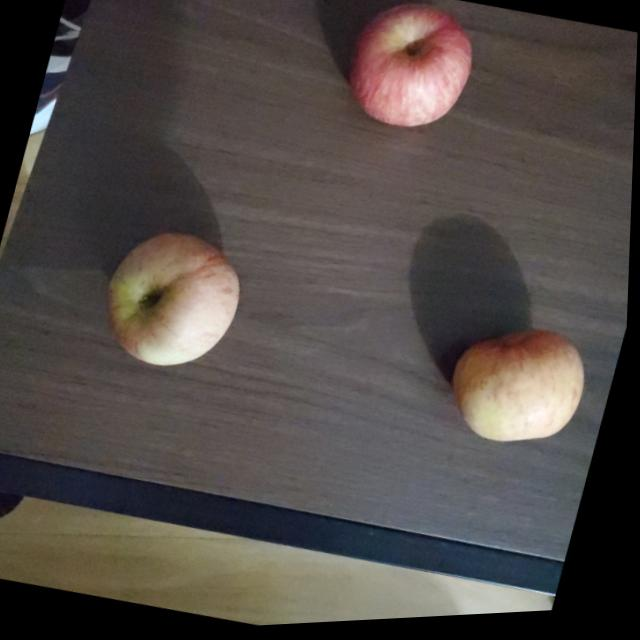apple: (89, 219, 253, 386), (443, 319, 600, 464), (338, 0, 486, 146)
